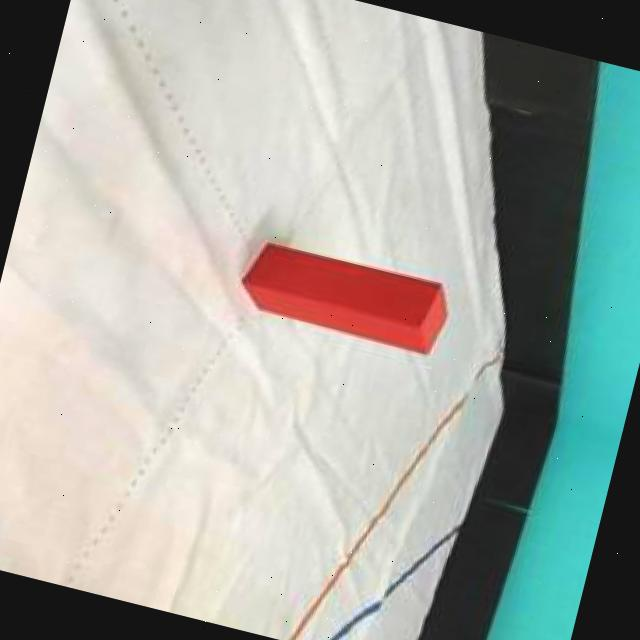redbox: (232, 232, 459, 359)
